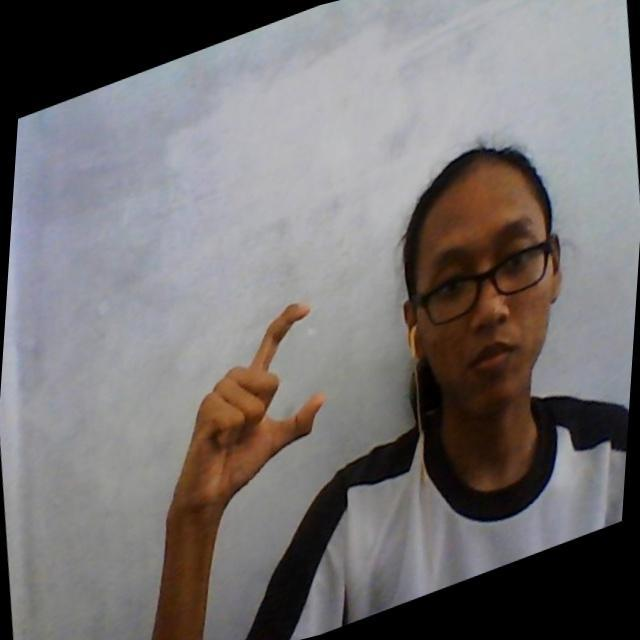C: (222, 296, 335, 444)
